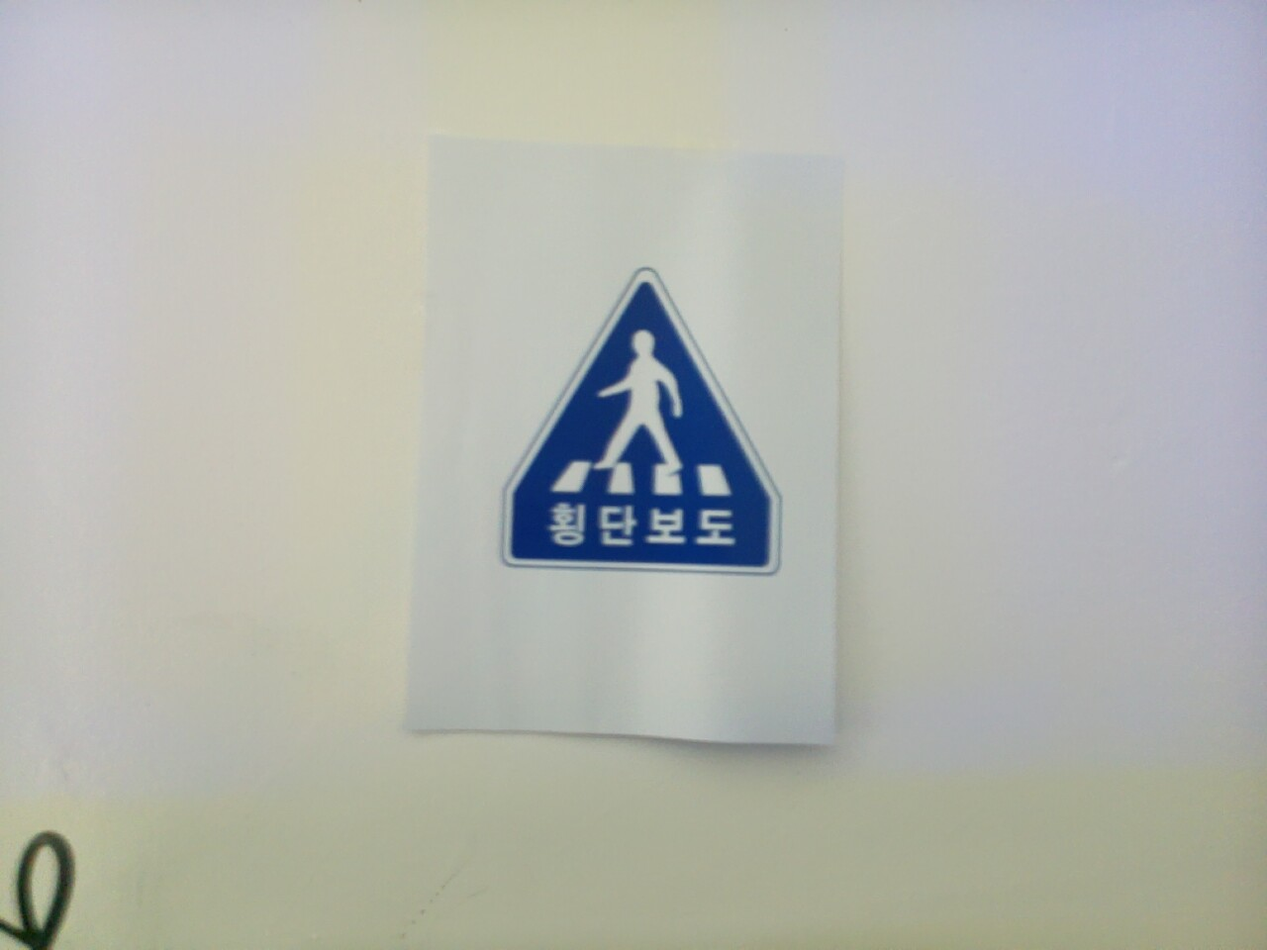crosswalk: (502, 273, 780, 576)
